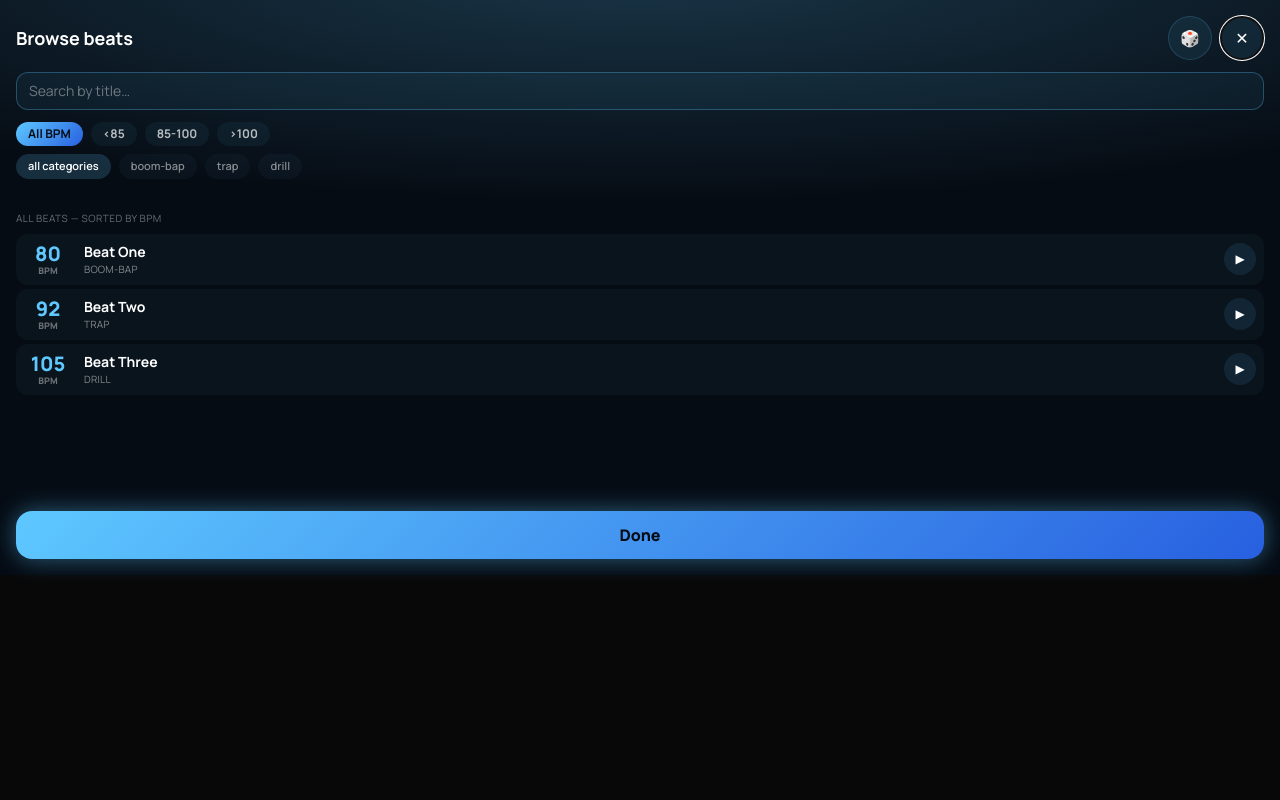
Test case: BrowseBeats — filters & rendering › shows empty-state message and a Clear filters action when filters exclude everything
In the search field with placeholder "Search by title…": point(640, 91) [16,72,1264,110], type "zzz"
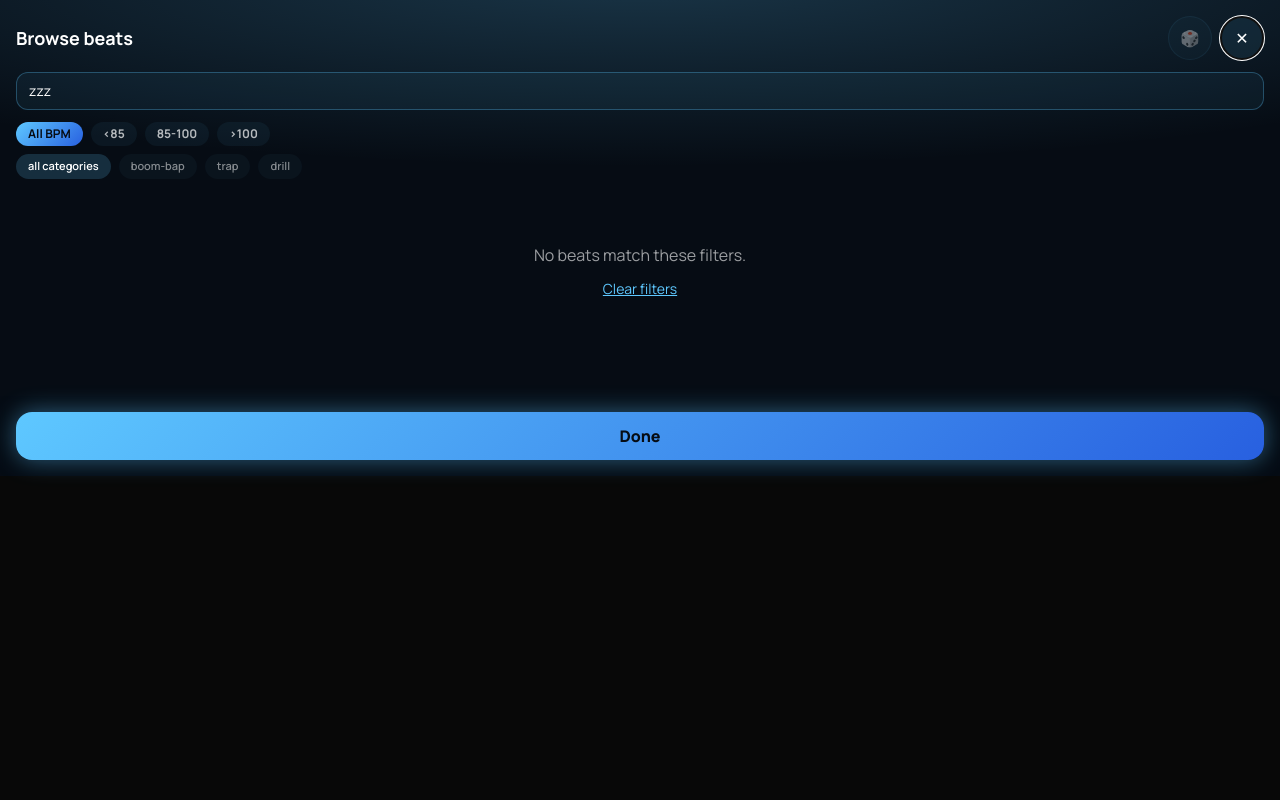
Check: the text "No beats match these filters." is shown, box [534,244,746,266]
Click the button "Clear filters": point(640, 288) [603,278,677,298]
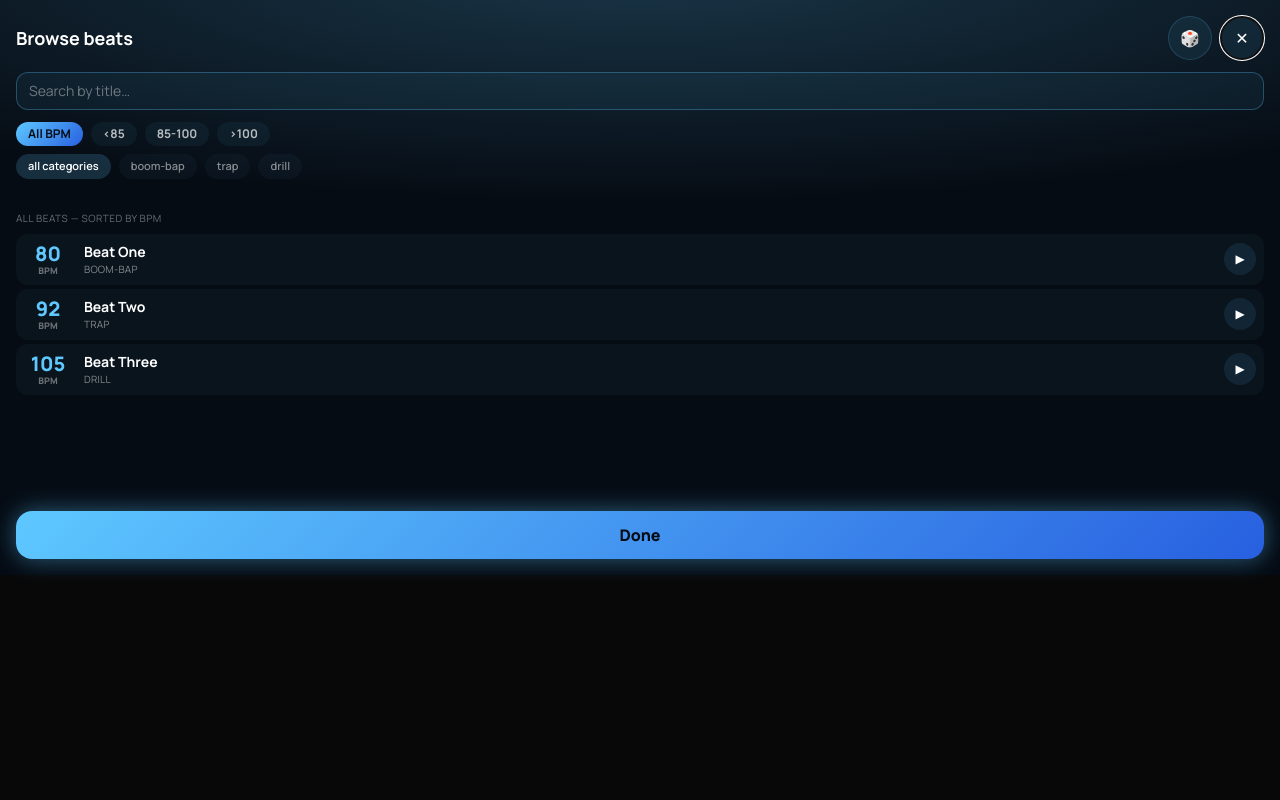
Check: the text "Beat One" is shown, box [84,242,146,260]
